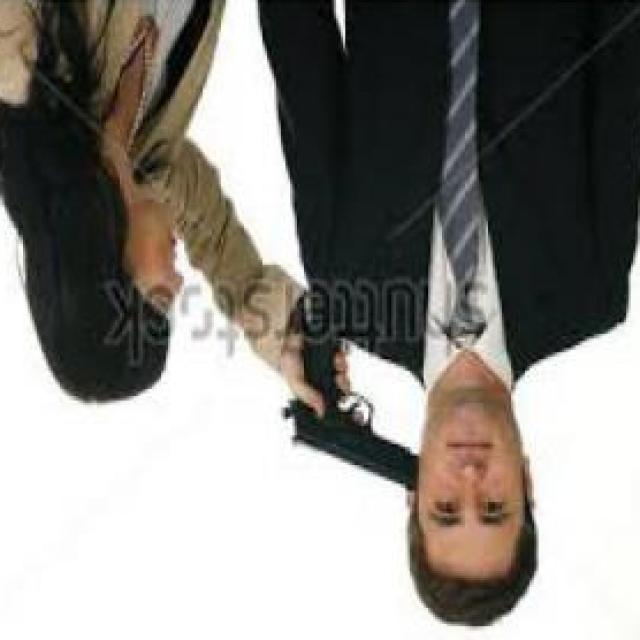pistol: (287, 311, 426, 497)
